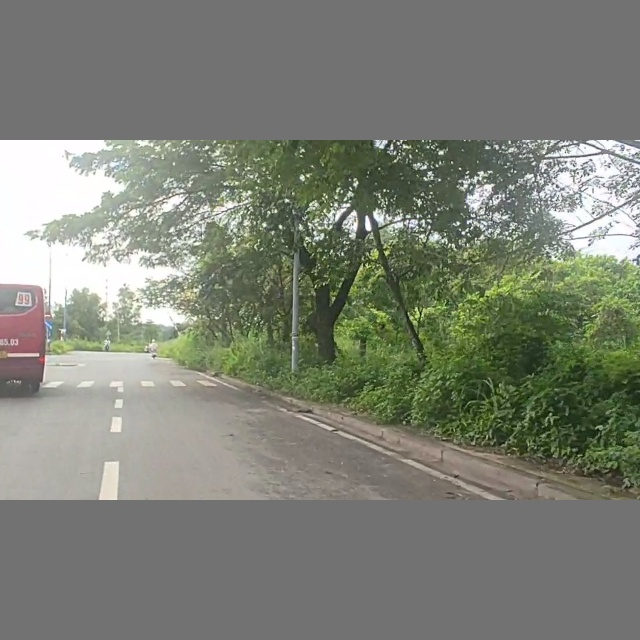P.102: (45, 310, 53, 319)
R.302a: (43, 321, 55, 329)
